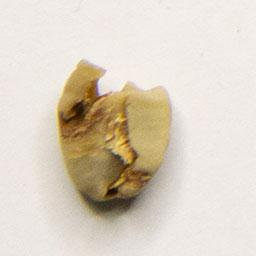defect: (49, 53, 177, 211)
